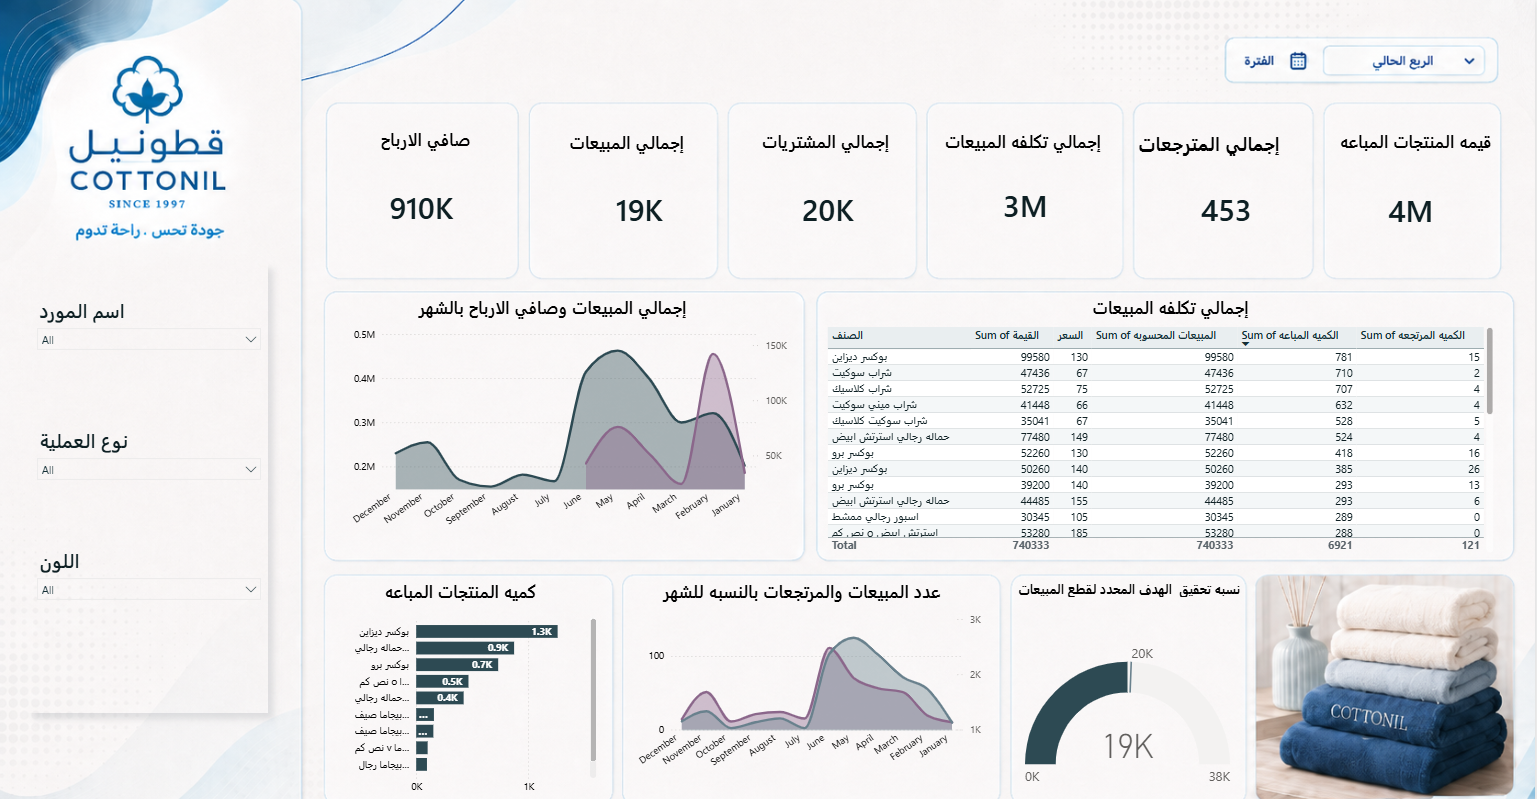

The dashboard page shown, as its layout file describes it:
{"tool":"powerbi","page":{"name":"مبيعات","canvas":[1920,1080],"ordinal":1},"visuals":[{"type":"card","fields":{"Values":["_Measures المشترياتx المبيعات.ارباح"]},"box":[461.4,212.9,132.9,95.7],"z":0},{"type":"card","fields":{"Values":["_Measures المشترياتx المبيعات.Total Sales"]},"box":[1215.7,205.7,132.9,102.9],"z":1000},{"type":"card","fields":{"Values":["_Measures كشف حساب الموردين.total_measures_مشتريات"]},"box":[1697.1,214.3,134.3,101.4],"z":2000},{"type":"card","fields":{"Values":["_Measures المشترياتx المبيعات.عدد الاوردرات"]},"box":[968.6,211.4,134.3,102.9],"z":3000},{"type":"card","fields":{"Values":["_Measures المشترياتx المبيعات.عدد الاوردرات المباعه"]},"box":[734.3,211.4,132.9,102.9],"z":4000},{"type":"areaChart","fields":{"Category":["المبيعات dim date.التاريخ.Variation.Date Hierarchy.Month"],"Y2":["_Measures المشترياتx المبيعات.ارباح"],"Y":["_Measures المشترياتx المبيعات.Total Sales"]},"box":[430,405,560,275],"z":5000},{"type":"card","fields":{"Values":["_Measures المشترياتx المبيعات.عدد المرتجعات للمبيعات"]},"box":[1467.1,211.4,132.9,102.9],"z":6000},{"type":"tableEx","fields":{"Values":["المبيعات fact.الصنف","Sum(المبيعات fact.القيمة)","المبيعات fact.السعر","Sum(المبيعات fact.المبيعات المحسوبه)","Sum(المبيعات fact.الكميه المباعه)","Sum(المبيعات fact.الكميه المرتجعه)"]},"box":[1030,405,843.3,291.7],"z":7000},{"type":"barChart","fields":{"Category":["المبيعات fact.الصنف"],"Y":["Sum(المبيعات fact.الكميه المباعه)"]},"box":[427.1,761.4,324.3,241.4],"z":8000},{"type":"areaChart","fields":{"Category":["المبيعات dim date.التاريخ.Variation.Date Hierarchy.Month"],"Y":["_Measures المشترياتx المبيعات.عدد المرتجعات للمبيعات"],"Y2":["_Measures المشترياتx المبيعات.عدد الاوردرات المباعه"]},"box":[791.4,761.4,441.4,220],"z":9000},{"type":"gauge","fields":{"Y":["_Measures المشترياتx المبيعات.عدد الاوردرات المباعه"],"TargetValue":["_Measures المشترياتx المبيعات.عدد الاوردرات"]},"box":[1271.4,792.9,278.6,200],"z":10000},{"type":"textbox","box":[461.4,155.7,144.3,60],"z":12000},{"type":"textbox","box":[702.9,160,164.3,51.4],"z":13000},{"type":"textbox","box":[948.3,158.3,191.7,51.7],"z":14000},{"type":"textbox","box":[1170,158.3,220,51.7],"z":15000},{"type":"textbox","box":[1410,158.3,205,51.7],"z":16000},{"type":"textbox","box":[1671.7,158.3,216.7,56.7],"z":17000},{"type":"textbox","box":[1313.3,366.7,301.7,51.7],"z":18000},{"type":"textbox","box":[500,366.7,383.3,51.7],"z":19000},{"type":"textbox","box":[426.7,721.7,301.7,51.7],"z":20000},{"type":"shape","box":[36.7,330,300,563.3],"z":21000},{"type":"slicer","fields":{"Values":["dim الاصناف.اسم المورد"]},"box":[37.1,367.1,300,107.1],"z":22001},{"type":"slicer","fields":{"Values":["المبيعات dim date.نوع العملية"]},"box":[37.1,530,300,122.9],"z":22002},{"type":"slicer","fields":{"Values":["المشتريات قبل وبعد الخصم fact.اللون"]},"box":[37.1,680,300,132.9],"z":22003},{"type":"textbox","box":[791.4,721.4,424.3,51.4],"z":22004},{"type":"textbox","box":[1261.4,721.4,298.6,51.4],"z":22005}]}

Visuals, with their boxes on the page's 1920x1080 design canvas (x1, y1, x2, y2). These are canvas units, not pixel positions in the 1537x799 screenshot, which may show the page scaled, cropped or inside an application window:
card - _Measures المشترياتx المبيعات.ارباح: l=461, t=213, r=594, b=309
card - _Measures المشترياتx المبيعات.Total Sales: l=1216, t=206, r=1349, b=309
card - _Measures كشف حساب الموردين.total_measures_مشتريات: l=1697, t=214, r=1831, b=316
card - _Measures المشترياتx المبيعات.عدد الاوردرات: l=969, t=211, r=1103, b=314
card - _Measures المشترياتx المبيعات.عدد الاوردرات المباعه: l=734, t=211, r=867, b=314
areaChart - المبيعات dim date.التاريخ.Variation.Date Hierarchy.Month x _Measures المشترياتx المبيعات.ارباح: l=430, t=405, r=990, b=680
card - _Measures المشترياتx المبيعات.عدد المرتجعات للمبيعات: l=1467, t=211, r=1600, b=314
tableEx - المبيعات fact.الصنف x Sum(المبيعات fact.القيمة): l=1030, t=405, r=1873, b=697
barChart - المبيعات fact.الصنف x Sum(المبيعات fact.الكميه المباعه): l=427, t=761, r=751, b=1003
areaChart - المبيعات dim date.التاريخ.Variation.Date Hierarchy.Month x _Measures المشترياتx المبيعات.عدد المرتجعات للمبيعات: l=791, t=761, r=1233, b=981
gauge - _Measures المشترياتx المبيعات.عدد الاوردرات المباعه x _Measures المشترياتx المبيعات.عدد الاوردرات: l=1271, t=793, r=1550, b=993
textbox: l=461, t=156, r=606, b=216
textbox: l=703, t=160, r=867, b=211
textbox: l=948, t=158, r=1140, b=210
textbox: l=1170, t=158, r=1390, b=210
textbox: l=1410, t=158, r=1615, b=210
textbox: l=1672, t=158, r=1888, b=215
textbox: l=1313, t=367, r=1615, b=418
textbox: l=500, t=367, r=883, b=418
textbox: l=427, t=722, r=728, b=773
shape: l=37, t=330, r=337, b=893
slicer - dim الاصناف.اسم المورد: l=37, t=367, r=337, b=474
slicer - المبيعات dim date.نوع العملية: l=37, t=530, r=337, b=653
slicer - المشتريات قبل وبعد الخصم fact.اللون: l=37, t=680, r=337, b=813
textbox: l=791, t=721, r=1216, b=773
textbox: l=1261, t=721, r=1560, b=773
